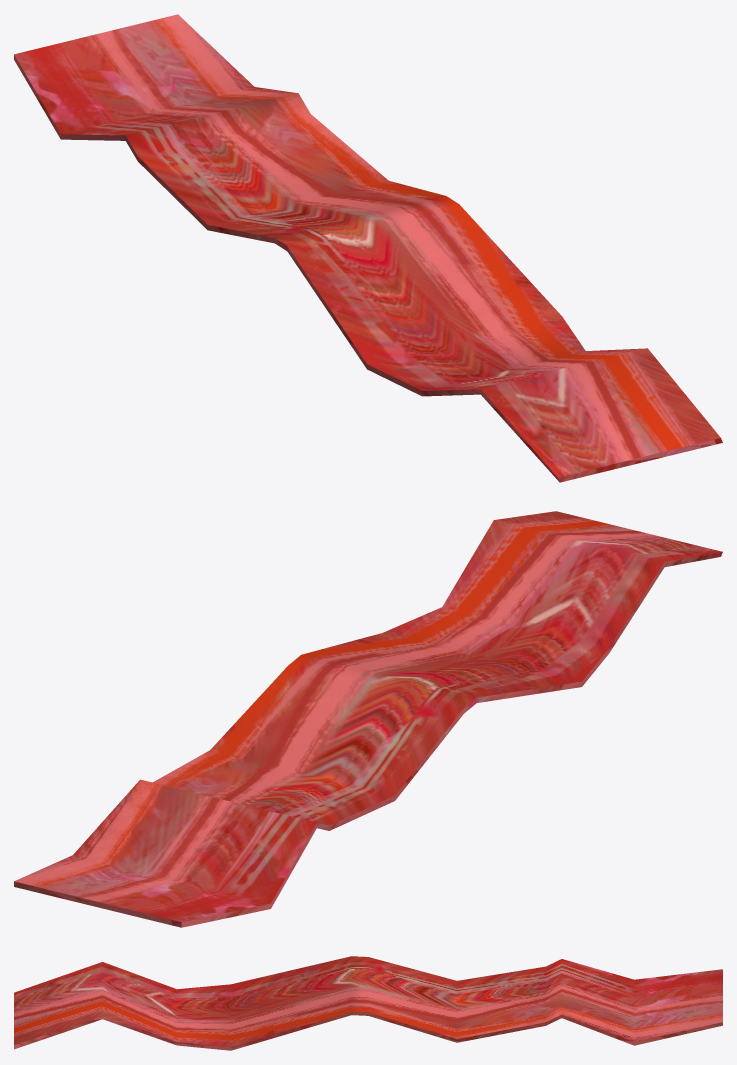
File: SM_Bacon.fbx
3 views of the same model, one above another, from view 1: azimuth 30°, elevation 25°; view 2: azimuth 150°, elevation 25°; view 3: azimuth 270°, elevation 25° (orthographic). The views are drawn at different scales.
Visible parts, largest first — view 1: SM_Bacon; view 2: SM_Bacon; view 3: SM_Bacon.
Part boxes in pixels (x1,y1,x2,y2): SM_Bacon: (14,14,722,482); SM_Bacon: (14,511,722,927); SM_Bacon: (14,956,722,1050).
Size of the model in its own units: 0.4153 by 0.1097 by 1.97.
